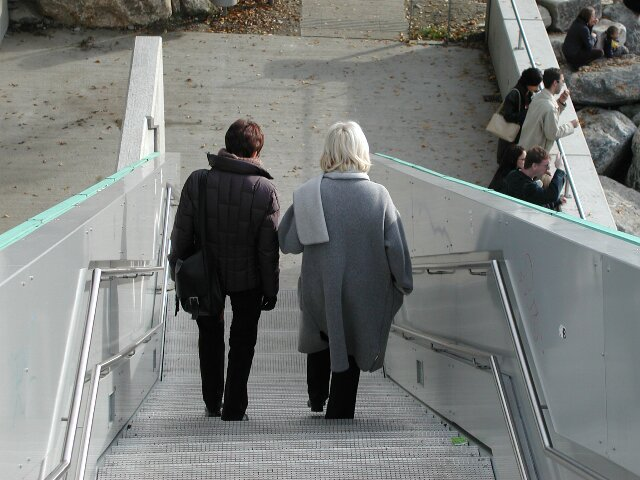person: (284, 117, 415, 422), (173, 112, 286, 425)
